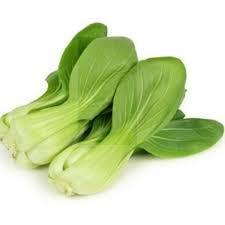Healthy-Pechay: (3, 24, 222, 199)
